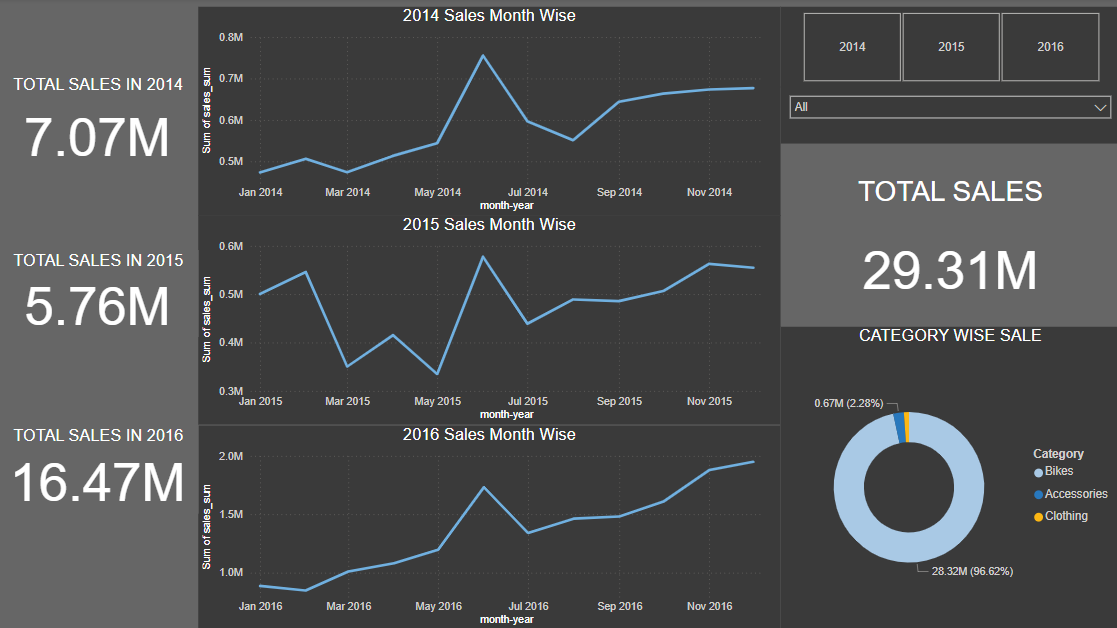

This screenshot's page, from the dashboard's own definition file:
{"tool":"powerbi","page":{"name":"Sales over the Years","canvas":[1280,720],"ordinal":0},"visuals":[{"type":"card","title":"TOTAL SALES","fields":{"Values":["Sum(Product_wise_total_sales.sales_sum)"]},"box":[893.3,201.7,387,172.9],"z":0},{"type":"lineChart","title":"2014 Sales Month Wise","fields":{"Y":["Sum(date_wise_sales.sales_sum)"],"Category":["date_wise_sales.month-year"]},"box":[229.2,9.6,664.2,238.8],"z":1000},{"type":"lineChart","title":"2015 Sales Month Wise","fields":{"Y":["Sum(date_wise_sales.sales_sum)"],"Category":["date_wise_sales.month-year"]},"box":[229.2,248.4,664.2,238.8],"z":2000},{"type":"lineChart","title":"2016 Sales Month Wise","fields":{"Y":["Sum(date_wise_sales.sales_sum)"],"Category":["date_wise_sales.month-year"]},"box":[229.2,487.1,664.2,233.3],"z":3000},{"type":"card","title":"TOTAL SALES IN 2014","fields":{"Values":["Sum(date_wise_sales.sales_sum)"]},"box":[0,86.4,229.2,115.3],"z":4000},{"type":"card","title":"TOTAL SALES IN 2015","fields":{"Values":["Sum(date_wise_sales.sales_sum)"]},"box":[0,287.9,229.5,98.4],"z":5000},{"type":"card","title":"TOTAL SALES IN 2016","fields":{"Values":["Sum(date_wise_sales.sales_sum)"]},"box":[0,487.5,229.5,99.8],"z":6000},{"type":"donutChart","title":"CATEGORY WISE SALE","fields":{"Y":["Sum(Category_wise_total_sales.Total_Sale_Sum)"],"Category":["Category_wise_total_sales.Category"]},"box":[893.3,374.6,387,345.8],"z":7000},{"type":"slicer","fields":{"Values":["date_wise_sales.month-year.Variation.Date Hierarchy.Year"]},"box":[893.3,9.6,387,91.9],"z":8000},{"type":"slicer","fields":{"Values":["date_wise_sales.month-year.Variation.Date Hierarchy.Month"]},"box":[893.3,101.5,387,64.5],"z":9000}]}

Visuals, with their boxes in screenshot pixels (x1, y1, x2, y2), scaled from the page's 1280x720 canvas onto the 1117x628 screenshot:
"TOTAL SALES" card: BBox(780, 176, 1116, 327)
"2014 Sales Month Wise" lineChart: BBox(200, 8, 780, 217)
"2015 Sales Month Wise" lineChart: BBox(200, 217, 780, 425)
"2016 Sales Month Wise" lineChart: BBox(200, 425, 780, 627)
"TOTAL SALES IN 2014" card: BBox(0, 75, 200, 176)
"TOTAL SALES IN 2015" card: BBox(0, 251, 200, 337)
"TOTAL SALES IN 2016" card: BBox(0, 425, 200, 512)
"CATEGORY WISE SALE" donutChart: BBox(780, 327, 1116, 627)
slicer - date_wise_sales.month-year.Variation.Date Hierarchy.Year: BBox(780, 8, 1116, 89)
slicer - date_wise_sales.month-year.Variation.Date Hierarchy.Month: BBox(780, 89, 1116, 145)
